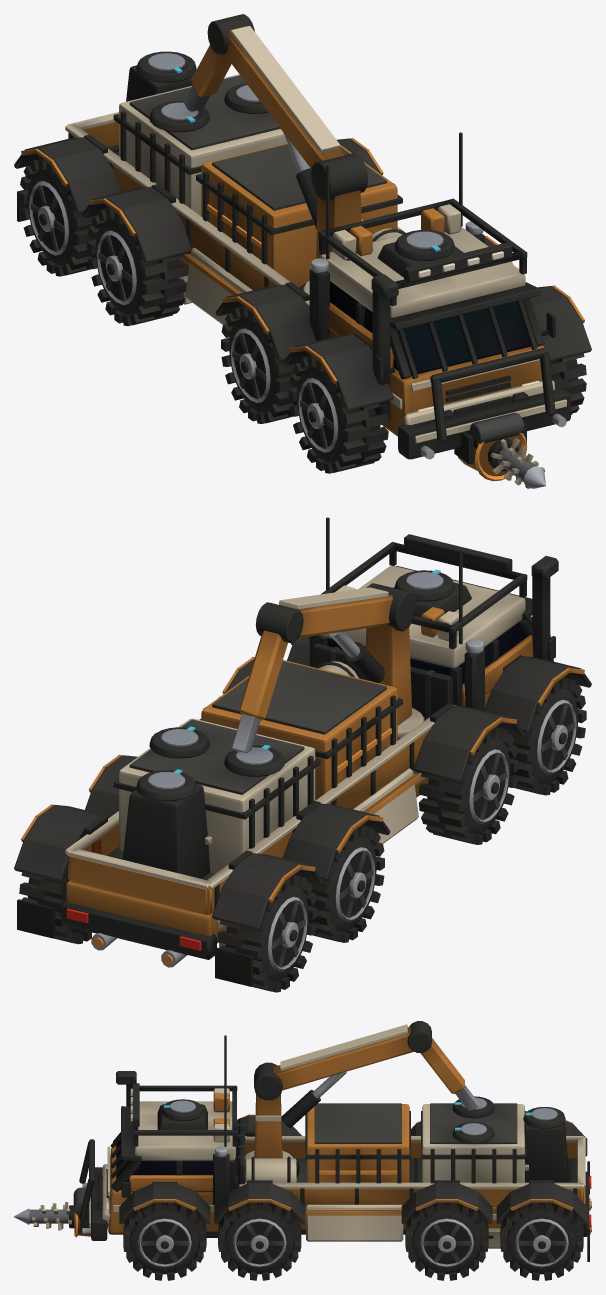
Rendered from ex_rover_9.glb.
3 views of the same model, one above another, from view 1: azimuth 30°, elevation 25°; view 2: azimuth 150°, elevation 25°; view 3: azimuth 270°, elevation 25° (orthographic). The views are drawn at different scales.
Visible parts, largest first — view 1: body, wheel_5, wheel_1, wheel_7, wheel_3, drill, wheel_0; view 2: body, wheel_3, wheel_7, wheel_5, wheel_1, wheel_6; view 3: body, wheel_2, wheel_0, wheel_6, wheel_4, drill.
Part boxes in pixels (x1=…): body: x1=14, y1=14, x2=591, y2=481; wheel_5: x1=87, y1=208, x2=187, y2=326; wheel_1: x1=288, y1=356, x2=388, y2=473; wheel_7: x1=19, y1=158, x2=95, y2=276; wheel_3: x1=221, y1=306, x2=297, y2=423; drill: x1=488, y1=437, x2=545, y2=488; wheel_0: x1=550, y1=353, x2=586, y2=414; body: x1=14, y1=517, x2=591, y2=986; wheel_3: x1=418, y1=727, x2=518, y2=844; wheel_7: x1=217, y1=874, x2=317, y2=992; wheel_5: x1=308, y1=825, x2=384, y2=942; wheel_1: x1=510, y1=677, x2=586, y2=795; wheel_6: x1=19, y1=833, x2=96, y2=944; body: x1=73, y1=1021, x2=591, y2=1261; wheel_2: x1=218, y1=1202, x2=301, y2=1280; wheel_0: x1=123, y1=1202, x2=206, y2=1280; wheel_6: x1=500, y1=1202, x2=583, y2=1280; wheel_4: x1=405, y1=1202, x2=488, y2=1280; drill: x1=14, y1=1202, x2=74, y2=1230.
Size of the model in its own units: 6.38 by 7.08 by 18.02.
